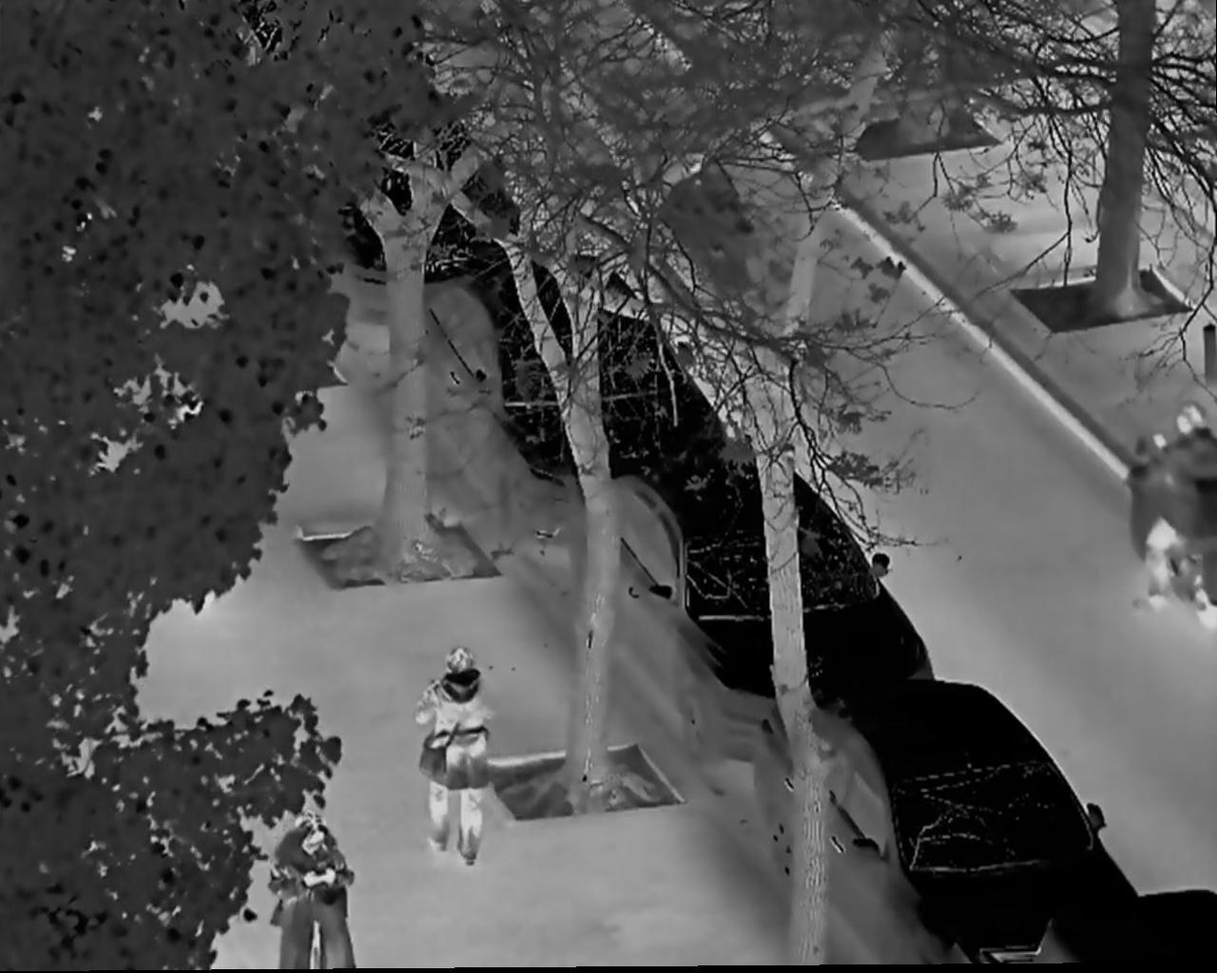person: (411, 646, 493, 866), (1138, 401, 1214, 609), (268, 814, 358, 963)
